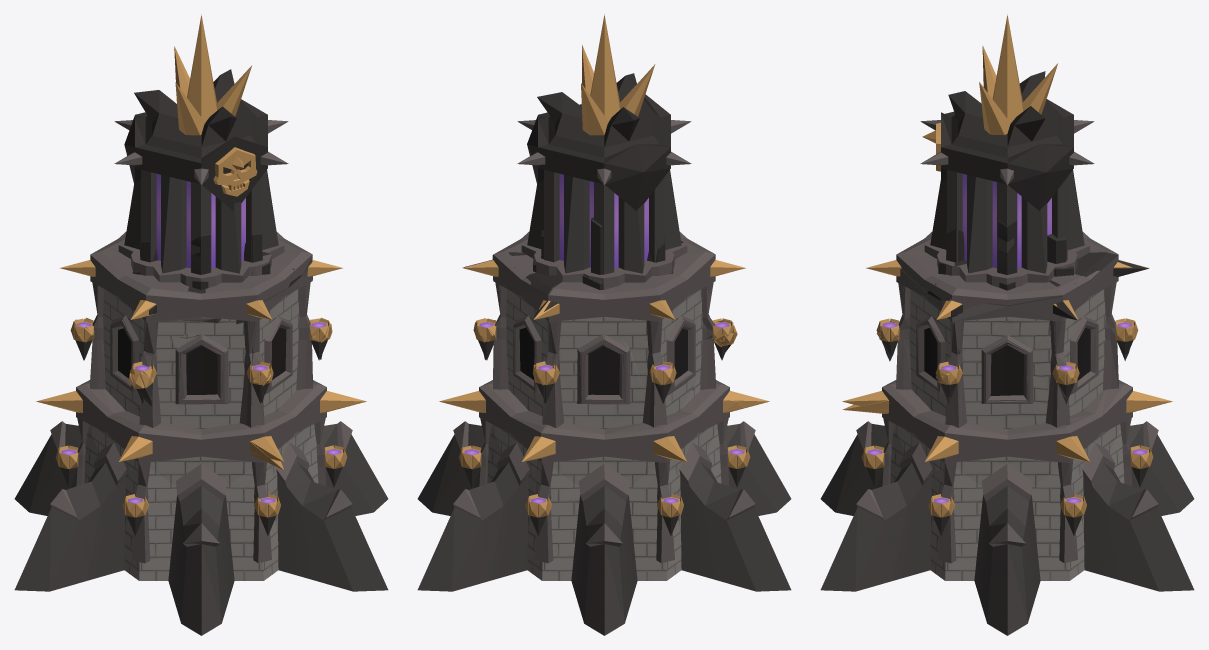
File: harazuelTower.fbx
3 views of the same model, side by side, from view 1: azimuth 30°, elevation 25°; view 2: azimuth 150°, elevation 25°; view 3: azimuth 270°, elevation 25° (orthographic).
Parts seen in each view (by area): view 1: harazuelTower, harazuelTowerDestroyed; view 2: harazuelTower, harazuelTowerDestroyed; view 3: harazuelTower, harazuelTowerDestroyed.
Part boxes in pixels (x1,y1,x2,y2): harazuelTower: [29, 14, 388, 635]; harazuelTowerDestroyed: [14, 222, 387, 635]; harazuelTower: [432, 14, 791, 635]; harazuelTowerDestroyed: [417, 217, 790, 635]; harazuelTower: [835, 14, 1194, 635]; harazuelTowerDestroyed: [820, 220, 1192, 635].
Size of the model in its own units: 6.5 by 8.82 by 5.63.
2 materials, 2 textured.
